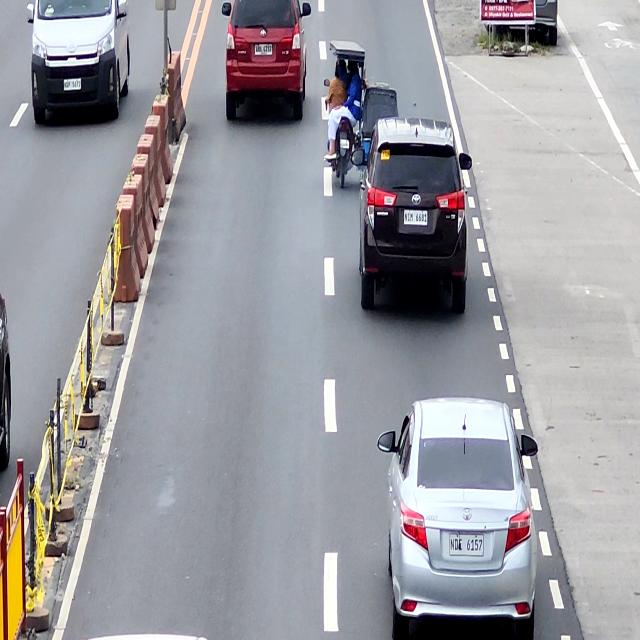Car: (382, 400, 538, 640), (353, 118, 472, 316), (221, 0, 311, 120)
License-Plate: (448, 534, 485, 558), (403, 210, 428, 224), (254, 44, 274, 56), (338, 138, 350, 149)
Tricycle: (326, 39, 398, 192)
